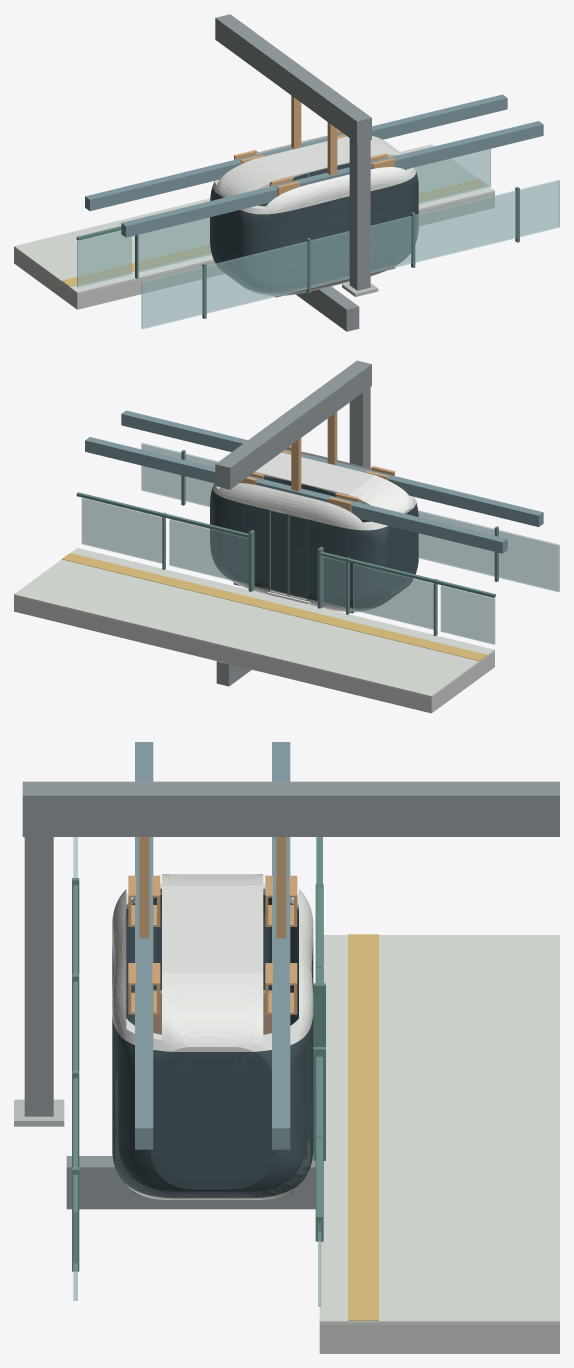
File: T1_Vehicle_Platform_Detail_V02.glb
3 views of the same model, one above another, from view 1: azimuth 30°, elevation 25°; view 2: azimuth 150°, elevation 25°; view 3: azimuth 270°, elevation 25° (orthographic). The views are drawn at different scales.
Parts seen in each view (by area): view 1: STATION_OUTER_GUARD_0001, VEHICLE_WINDOWS_0001_car1_dark_wraparound, STATION_PLATFORM_FINISH_0001, VEHICLE_COWL_0001_car1_assumed_outer_cowl, STATION_FRAME_CROSSHEAD_0003, GUIDEWAY_STATION_PAIR_0001_corridor1_rail1_proxy, GUIDEWAY_STATION_PAIR_0002_corridor1_rail2_proxy, STATION_RECESSED_SLAB_0001_assumed_station_slab, STATION_FRAME_POST_0005, STATION_EDGE_GLASS_0015, STATION_EDGE_GLASS_0012, STATION_EDGE_GLASS_0011 (+5 smaller); view 2: STATION_PLATFORM_FINISH_0001, VEHICLE_WINDOWS_0001_car1_dark_wraparound, STATION_OUTER_GUARD_0001, STATION_RECESSED_SLAB_0001_assumed_station_slab, VEHICLE_COWL_0001_car1_assumed_outer_cowl, STATION_FRAME_CROSSHEAD_0003, GUIDEWAY_STATION_PAIR_0002_corridor1_rail2_proxy, GUIDEWAY_STATION_PAIR_0001_corridor1_rail1_proxy, STATION_EDGE_GLASS_0015, STATION_EDGE_GLASS_0012, STATION_EDGE_WARNING_0001, STATION_EDGE_GLASS_0014 (+10 smaller); view 3: STATION_PLATFORM_FINISH_0001, STATION_FRAME_CROSSHEAD_0003, VEHICLE_WINDOWS_0001_car1_dark_wraparound, VEHICLE_COWL_0001_car1_assumed_outer_cowl, STATION_EDGE_WARNING_0001, STATION_FRAME_POST_0005, STATION_RECESSED_SLAB_0001_assumed_station_slab, GUIDEWAY_STATION_PAIR_0001_corridor1_rail1_proxy, GUIDEWAY_STATION_PAIR_0002_corridor1_rail2_proxy, STATION_TRANSVERSE_SUPPORT_0003, STATION_OUTER_GUARD_0001, STATION_EDGE_RAIL_0002 (+14 smaller).
Boxes of the visible parts, box(x1,y1,x2,y2) form: STATION_OUTER_GUARD_0001: box(141, 180, 559, 329); VEHICLE_WINDOWS_0001_car1_dark_wraparound: box(210, 163, 418, 292); STATION_PLATFORM_FINISH_0001: box(14, 144, 494, 294); VEHICLE_COWL_0001_car1_assumed_outer_cowl: box(212, 135, 415, 214); STATION_FRAME_CROSSHEAD_0003: box(215, 14, 371, 143); GUIDEWAY_STATION_PAIR_0001_corridor1_rail1_proxy: box(121, 121, 543, 237); GUIDEWAY_STATION_PAIR_0002_corridor1_rail2_proxy: box(85, 94, 507, 210); STATION_RECESSED_SLAB_0001_assumed_station_slab: box(14, 192, 494, 309); STATION_FRAME_POST_0005: box(349, 138, 370, 290); STATION_EDGE_GLASS_0015: box(415, 149, 490, 204); STATION_EDGE_GLASS_0012: box(138, 217, 211, 272); STATION_EDGE_GLASS_0011: box(77, 230, 131, 287); STATION_PLATFORM_FINISH_0001: box(14, 548, 494, 697); VEHICLE_WINDOWS_0001_car1_dark_wraparound: box(210, 476, 418, 608); STATION_OUTER_GUARD_0001: box(141, 443, 559, 592); STATION_RECESSED_SLAB_0001_assumed_station_slab: box(14, 596, 494, 713); VEHICLE_COWL_0001_car1_assumed_outer_cowl: box(212, 451, 415, 530); STATION_FRAME_CROSSHEAD_0003: box(215, 360, 371, 489); GUIDEWAY_STATION_PAIR_0002_corridor1_rail2_proxy: box(85, 437, 507, 553); GUIDEWAY_STATION_PAIR_0001_corridor1_rail1_proxy: box(121, 410, 543, 526); STATION_EDGE_GLASS_0015: box(81, 497, 165, 563); STATION_EDGE_GLASS_0012: box(353, 564, 436, 629); STATION_EDGE_WARNING_0001: box(62, 553, 487, 660); STATION_EDGE_GLASS_0014: box(169, 519, 248, 584); STATION_PLATFORM_FINISH_0001: box(319, 935, 559, 1324); STATION_FRAME_CROSSHEAD_0003: box(22, 781, 559, 836); VEHICLE_WINDOWS_0001_car1_dark_wraparound: box(112, 895, 313, 1198); VEHICLE_COWL_0001_car1_assumed_outer_cowl: box(112, 874, 313, 1051); STATION_EDGE_WARNING_0001: box(348, 934, 378, 1320); STATION_FRAME_POST_0005: box(24, 837, 53, 1116); STATION_RECESSED_SLAB_0001_assumed_station_slab: box(319, 1325, 559, 1353); GUIDEWAY_STATION_PAIR_0001_corridor1_rail1_proxy: box(135, 742, 153, 1149); GUIDEWAY_STATION_PAIR_0002_corridor1_rail2_proxy: box(272, 742, 290, 1149); STATION_TRANSVERSE_SUPPORT_0003: box(66, 1156, 315, 1209); STATION_OUTER_GUARD_0001: box(73, 837, 77, 1300); STATION_EDGE_RAIL_0002: box(316, 1056, 322, 1221).
Size of the model in its own units: 10 by 5.01 by 5.98.
